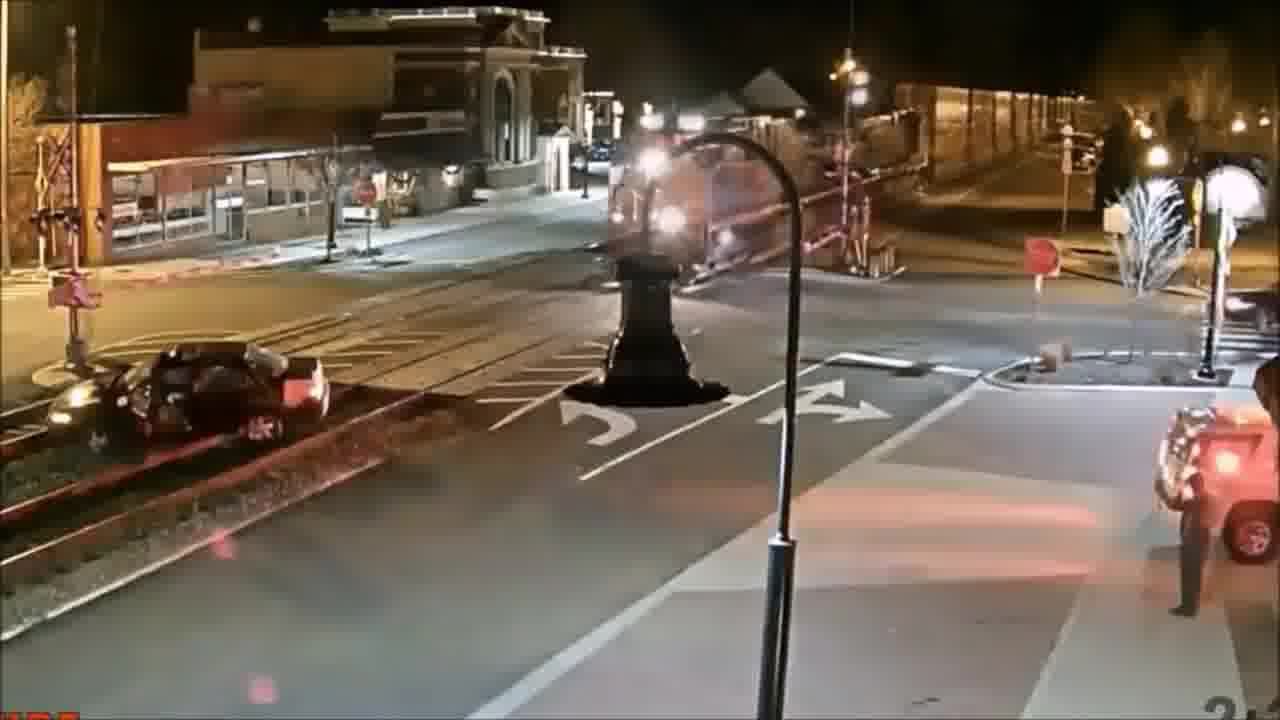crossing railway track: (36, 334, 343, 467)
